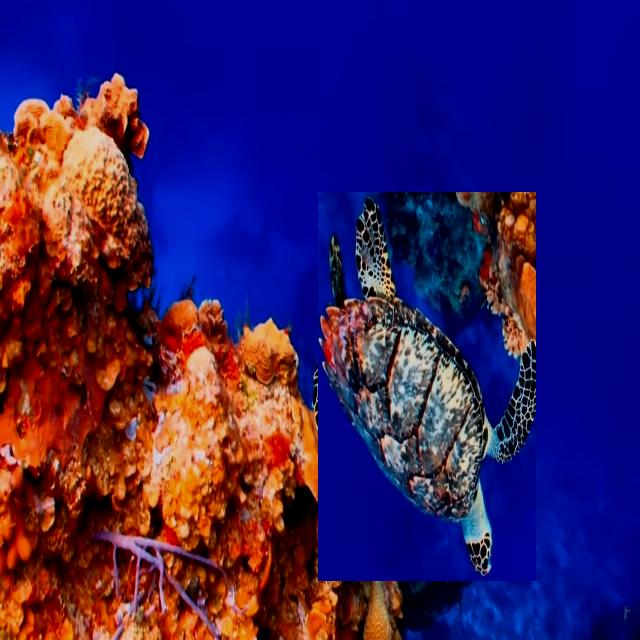Sea turtle: (318, 192, 536, 581)
